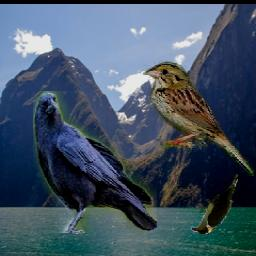Crow: (33, 91, 157, 233)
Cuckoo: (191, 174, 239, 235)
Sparrow: (143, 60, 254, 176)
